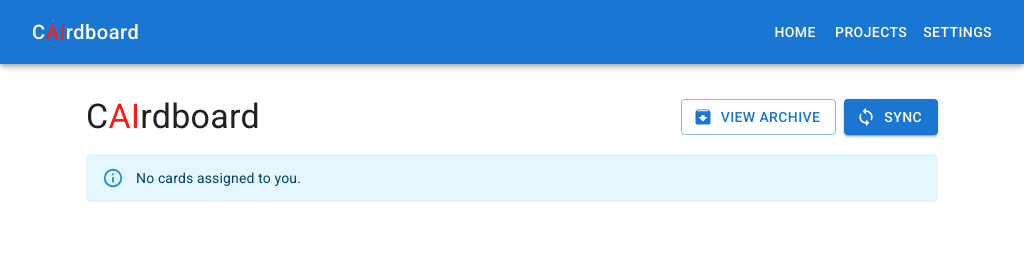
the Projects nav link opens the projects page
What coordinates should you click on to do the following:
click the link "Projects"
I would click on:
 (871, 32)
Its box is top-left (835, 24), bottom-right (907, 40).
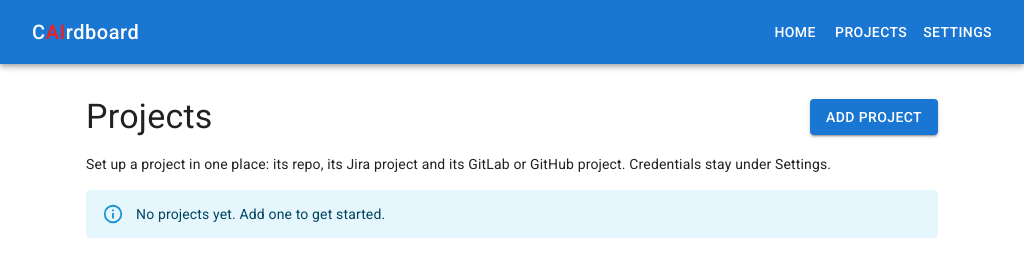
Expected: the heading "Projects" is shown, top-left (86, 96), bottom-right (213, 138)
